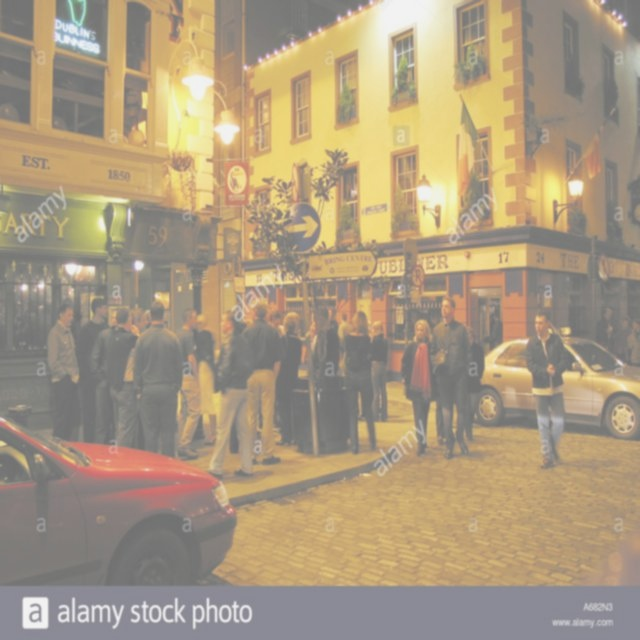pessoa: (203, 308, 256, 480), (238, 296, 288, 469), (131, 298, 183, 460), (428, 295, 475, 462), (522, 308, 570, 470), (398, 317, 440, 458), (340, 308, 378, 456), (74, 296, 112, 444), (105, 305, 142, 449), (46, 301, 82, 441), (88, 306, 121, 446), (272, 310, 304, 448), (175, 308, 202, 460), (194, 313, 219, 447), (368, 319, 390, 424), (313, 306, 342, 380), (13, 298, 46, 352), (468, 328, 486, 424), (111, 307, 152, 337), (595, 307, 613, 364), (297, 316, 318, 364), (406, 308, 436, 339), (337, 311, 354, 361), (483, 310, 503, 350), (434, 384, 446, 446), (616, 316, 632, 361), (628, 318, 640, 368), (268, 308, 286, 338), (0, 281, 6, 349), (327, 308, 339, 333), (64, 297, 76, 310), (238, 318, 248, 332)
